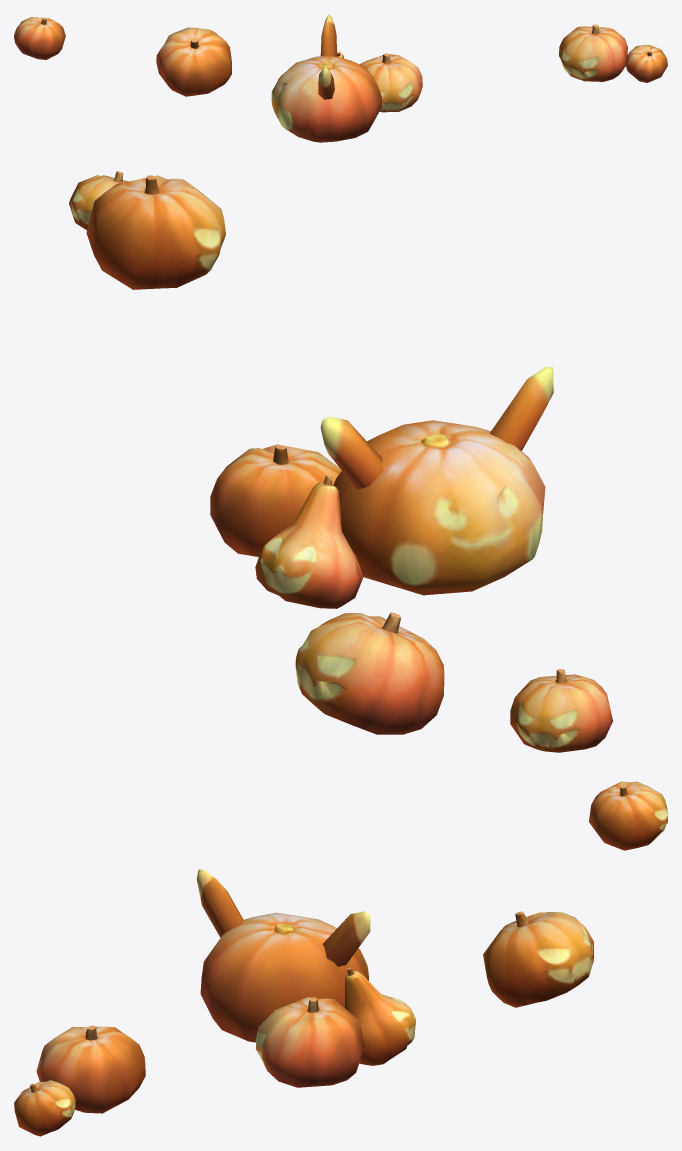
Rendered from pref_sm_4v4beachtech_WSJ_bk_decorate_L03_lv2.fbx.
3 views of the same model, one above another, from view 1: azimuth 30°, elevation 25°; view 2: azimuth 150°, elevation 25°; view 3: azimuth 270°, elevation 25° (orthographic). The views are drawn at different scales.
Parts seen in each view (by area): view 1: pref_sm_4v4beachtech_WSJ_bk_decorate_L03_lv2; view 2: pref_sm_4v4beachtech_WSJ_bk_decorate_L03_lv2; view 3: pref_sm_4v4beachtech_WSJ_bk_decorate_L03_lv2.
Boxes of the visible parts, left/top/right/bottom form: pref_sm_4v4beachtech_WSJ_bk_decorate_L03_lv2: left=14, top=14, right=667, bottom=142; pref_sm_4v4beachtech_WSJ_bk_decorate_L03_lv2: left=69, top=171, right=612, bottom=752; pref_sm_4v4beachtech_WSJ_bk_decorate_L03_lv2: left=14, top=781, right=667, bottom=1136.
Bounding box in the file's own units: 8.94 × 2.03 × 7.23.
